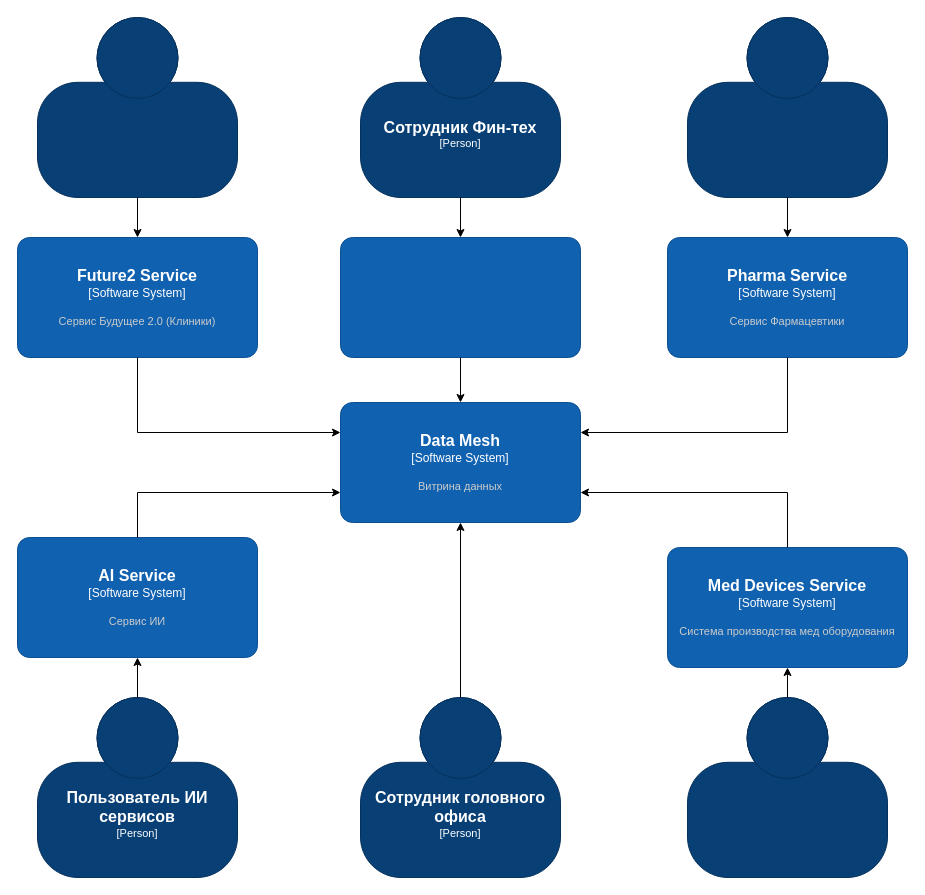
This 925x895 diagram has some shape labels left out. Here are the shapes that lost their labels. From the top down, the centre of each, then its label:
the point at 137,107: Сотрудник Будущее 2.0 (Клиники) [Person]
the point at 787,107: Сотрудник Фармацевтики [Person]
the point at 460,297: Finance Service [Software System] Сервис финтеха
the point at 787,787: Сотрудник производства [Person]
